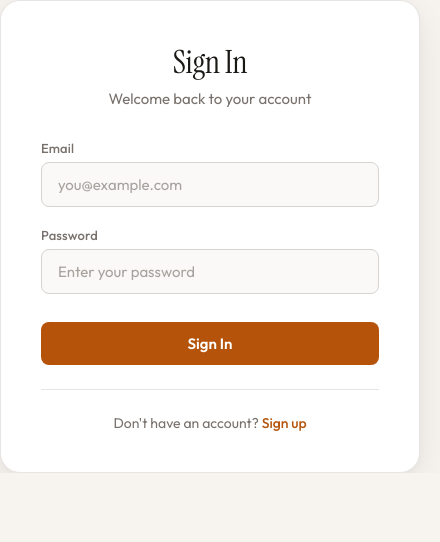
Test case: SignInPage › displays fallback error message for unexpected errors
This screenshot has width=440, height=542.
In the field labelled "Email": (210, 184) [41,162,379,207], type "a@b.com"
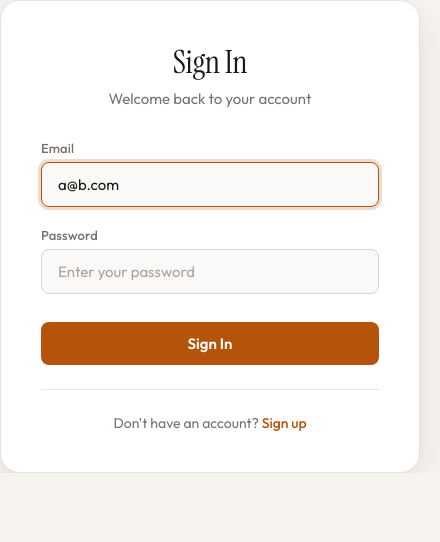
In the password field labelled "Password": (210, 272) [41,249,379,294], type "secret"
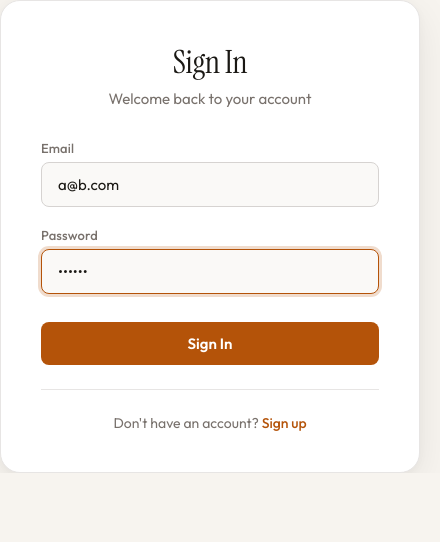
Click the button "Sign In": (210, 344) [41,322,379,365]
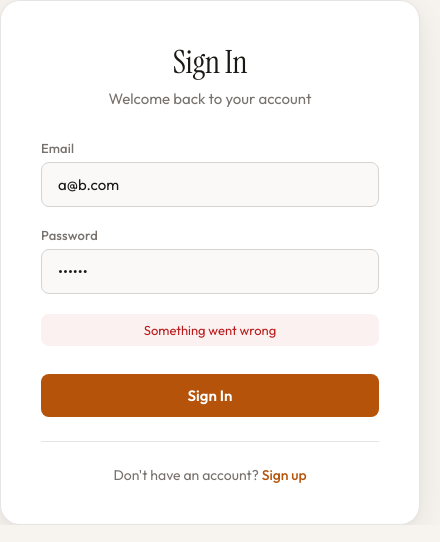
Expected: the text "Something went wrong" is shown, [41,314,379,346]
